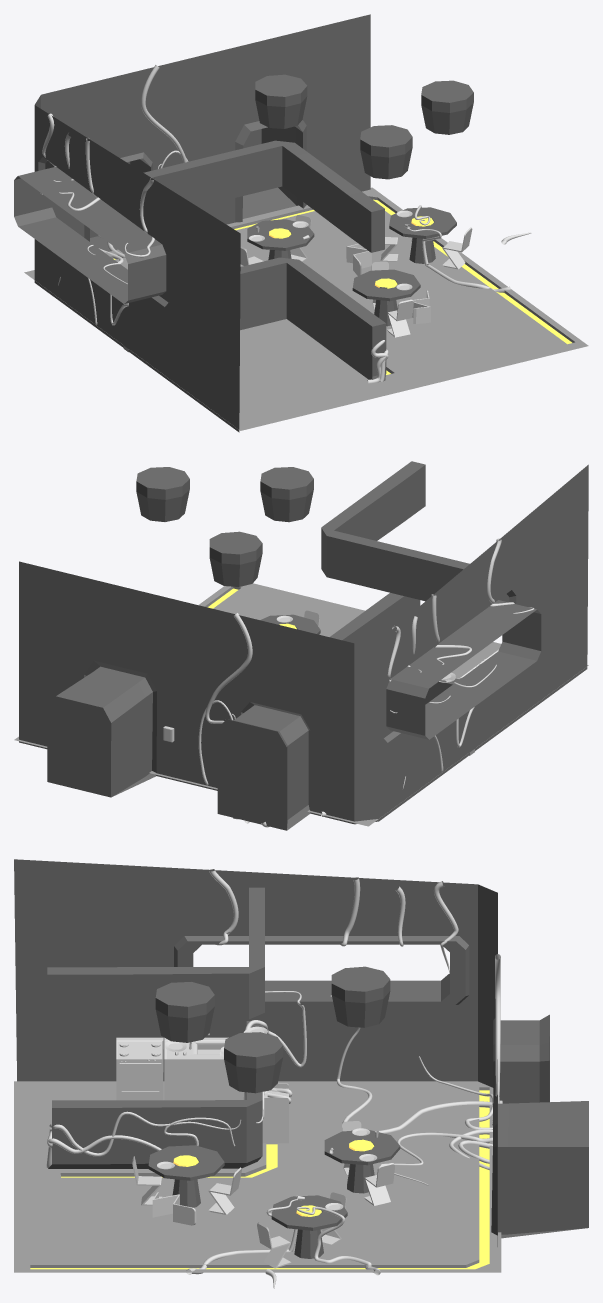
Rendered from Кухня Д.fbx.
3 renders of one model, top to bottom at view 1: azimuth 30°, elevation 25°; view 2: azimuth 150°, elevation 25°; view 3: azimuth 270°, elevation 25°, orthographic. The views are drawn at different scales.
Parts seen in each view (by area): view 1: Plane, Plane.002, Cube.003, Cube.001, BezierCurve.003, Circle.003, Circle.005, Circle.001, Circle.002, Circle.004, Circle, Plane.008 (+2 smaller); view 2: Plane, Cube.003, Plane.002, BezierCurve.003, Cube.001, Circle.003, Circle.005, Circle.001, Circle.004; view 3: Plane, Plane.002, Cube.001, Cube.003, BezierCurve.003, Cube.007, Circle.003, Circle.005, Circle.001, Circle.004, Circle, Circle.002 (+8 smaller).
Part boxes in pixels (box(x1,y1,x2,y2)): Plane: box(14, 14, 370, 432); Plane.002: box(24, 187, 588, 430); Cube.003: box(143, 140, 384, 252); Cube.001: box(240, 257, 386, 380); BezierCurve.003: box(40, 65, 531, 383); Circle.003: box(421, 80, 473, 134); Circle.005: box(360, 125, 412, 179); Circle.001: box(255, 74, 307, 128); Circle.002: box(389, 207, 456, 263); Circle.004: box(352, 269, 420, 326); Circle: box(247, 219, 314, 259); Plane.008: box(387, 299, 413, 337); Plane: box(19, 464, 588, 830); Cube.003: box(321, 461, 469, 601); Plane.002: box(14, 583, 588, 826); BezierCurve.003: box(198, 538, 534, 827); Cube.001: box(330, 592, 458, 704); Circle.003: box(136, 467, 189, 521); Circle.005: box(260, 467, 313, 522); Circle.001: box(209, 531, 262, 586); Circle.004: box(260, 614, 320, 634); Plane: box(14, 859, 588, 1246); Plane.002: box(14, 1081, 501, 1272); Cube.001: box(48, 1021, 262, 1168); Cube.003: box(47, 887, 264, 1020); BezierCurve.003: box(46, 869, 500, 1288); Cube.007: box(164, 1037, 243, 1100); Circle.003: box(224, 1032, 283, 1093); Circle.005: box(155, 982, 214, 1042); Circle.001: box(331, 966, 390, 1027); Circle.004: box(148, 1145, 224, 1207); Circle: box(324, 1129, 400, 1193); Circle.002: box(271, 1195, 347, 1258).
Size of the model in its own units: 5218 by 2313 by 5261.
